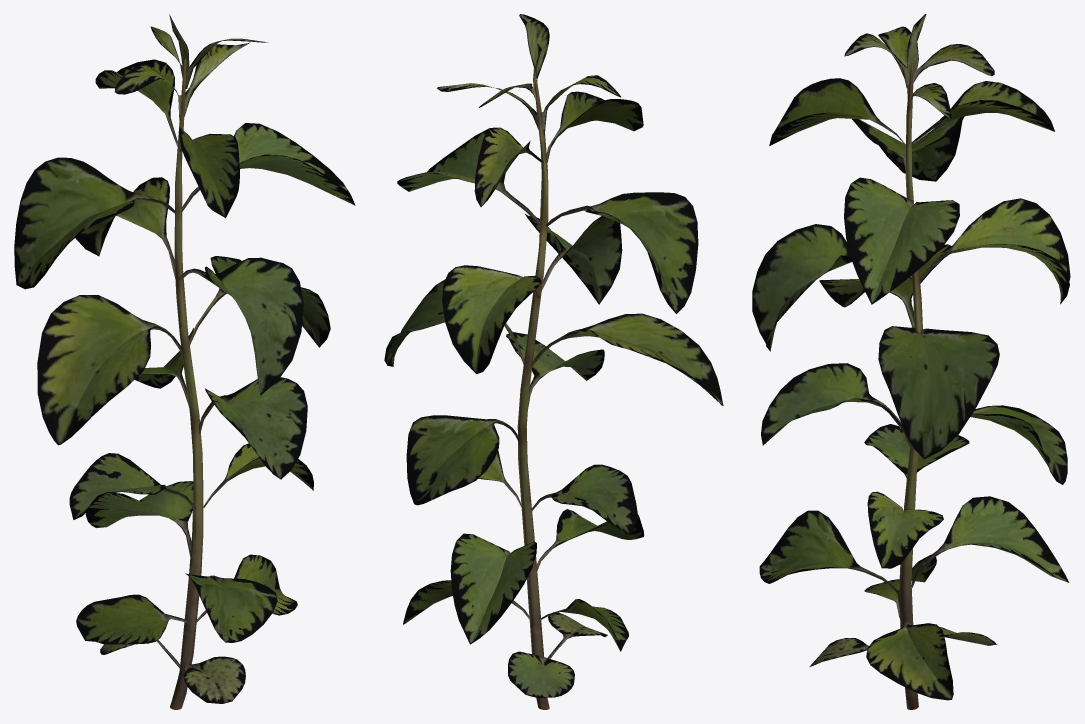
The model's file is nettle_b.glb.
3 renders of one model, left to right at view 1: azimuth 30°, elevation 25°; view 2: azimuth 150°, elevation 25°; view 3: azimuth 270°, elevation 25°, orthographic. The views are drawn at different scales.
Parts seen in each view (by area): view 1: nettle_plant_tall_a_LOD0; view 2: nettle_plant_tall_a_LOD0; view 3: nettle_plant_tall_a_LOD0.
Part boxes in pixels (x1,y1,x2,y2): nettle_plant_tall_a_LOD0: (14, 14, 355, 709); nettle_plant_tall_a_LOD0: (384, 14, 723, 709); nettle_plant_tall_a_LOD0: (752, 14, 1070, 709).
Size of the model in its own units: 0.1036 by 0.2168 by 0.0901.
Materials: 1 (1 with a texture image).
